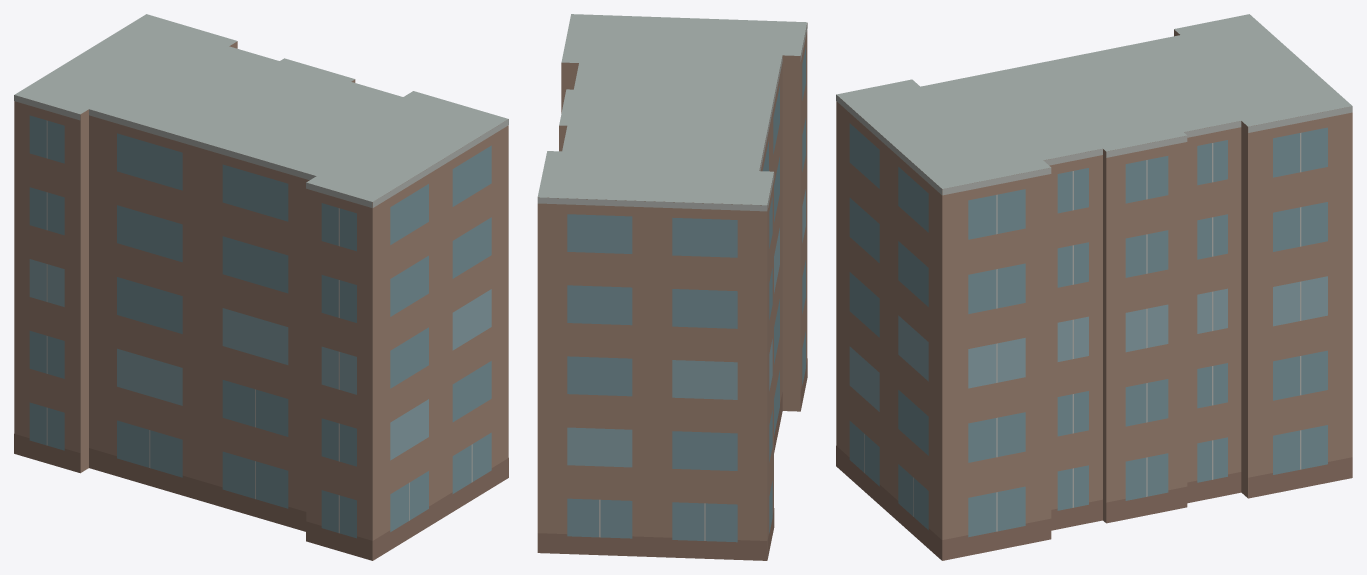
File: survey-upis-32868683.glb
3 views of the same model, side by side, from view 1: azimuth 30°, elevation 25°; view 2: azimuth 150°, elevation 25°; view 3: azimuth 270°, elevation 25° (orthographic). The views are drawn at different scales.
Parts seen in each view (by area): view 1: survey-upis-32868683.tmp; view 2: survey-upis-32868683.tmp; view 3: survey-upis-32868683.tmp.
Boxes of the visible parts, bbox=[...] form: survey-upis-32868683.tmp: bbox=[14, 14, 508, 560]; survey-upis-32868683.tmp: bbox=[537, 14, 807, 560]; survey-upis-32868683.tmp: bbox=[836, 14, 1352, 560].
Bounding box in the file's own units: 14.35 × 14.2 × 17.89.
